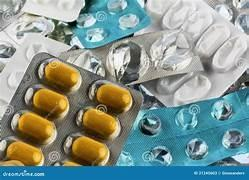pill_Strip: (144, 0, 248, 105), (41, 62, 141, 165), (123, 88, 248, 165), (60, 30, 203, 83), (127, 88, 248, 143), (123, 122, 248, 165), (0, 33, 69, 104), (73, 0, 149, 48), (135, 0, 198, 35), (0, 14, 53, 52), (24, 84, 69, 119), (134, 0, 178, 35), (4, 14, 54, 44), (11, 111, 56, 143), (60, 45, 105, 76), (38, 60, 81, 91), (88, 81, 131, 112), (76, 108, 120, 138), (22, 0, 84, 21), (212, 36, 247, 71), (195, 23, 230, 58), (67, 136, 109, 165), (0, 137, 43, 165), (205, 0, 247, 23), (162, 1, 196, 29), (181, 11, 213, 40), (131, 84, 164, 109), (0, 0, 25, 30), (0, 31, 18, 70), (145, 0, 173, 24), (226, 71, 248, 93), (210, 153, 247, 165), (232, 153, 247, 164), (55, 160, 80, 165), (0, 160, 23, 165), (205, 0, 220, 6), (137, 0, 145, 7)
